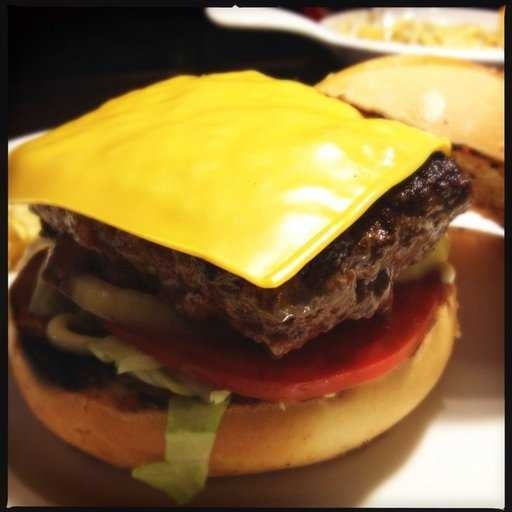hamburger: (1, 74, 466, 461)
